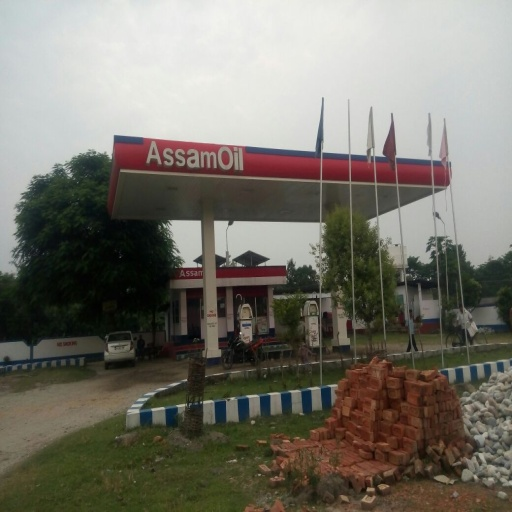roof: (107, 134, 458, 234)
